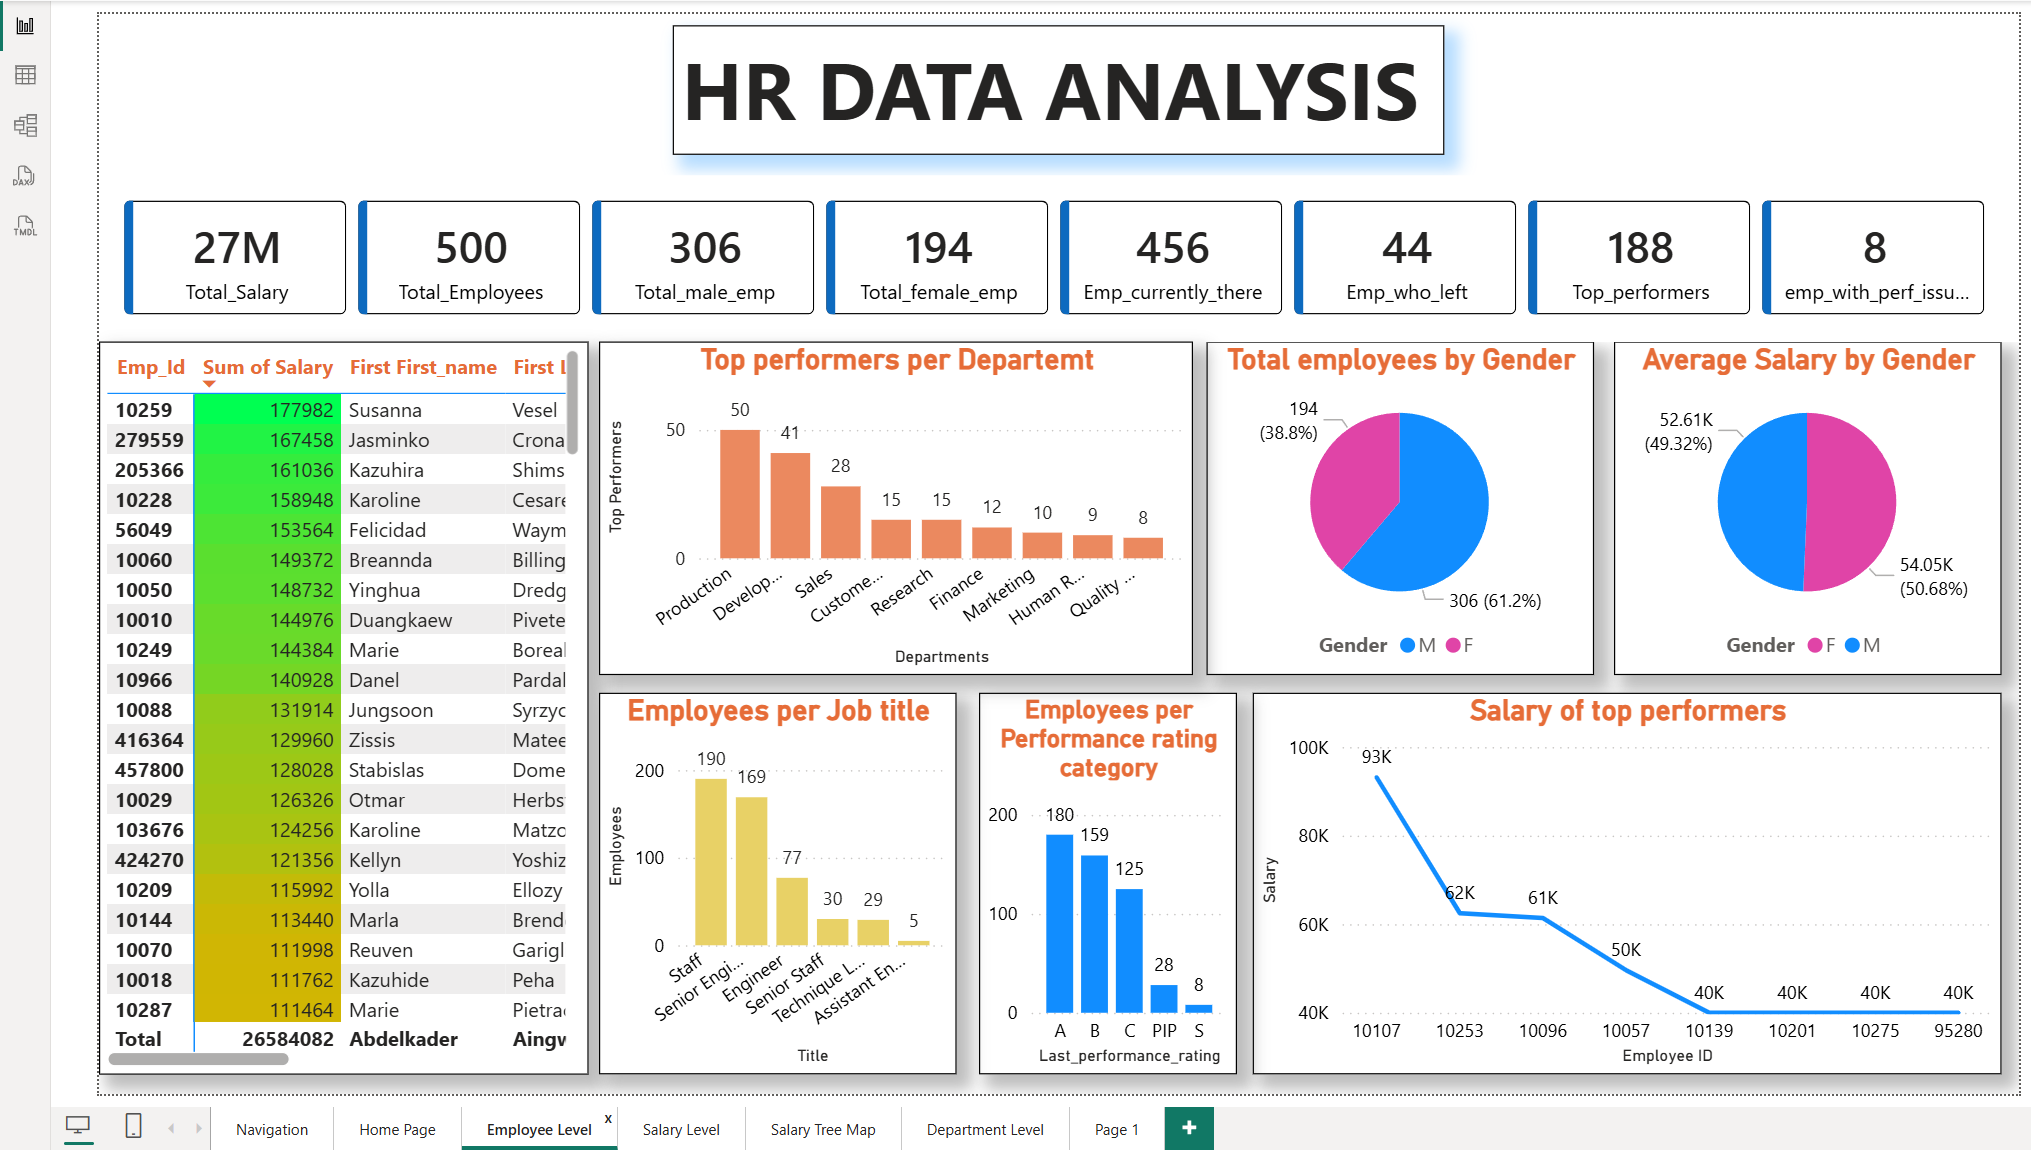

The dashboard page shown, as its layout file describes it:
{"tool":"powerbi","page":{"name":"Employee Level","canvas":[1280,720],"ordinal":2},"visuals":[{"type":"textbox","box":[382.7,7.3,514.5,86.4],"z":0},{"type":"pieChart","title":"Total employees by Gender","fields":{"Y":["CountNonNull(Emp_Info.Emp_Id)"],"Category":["Emp_Info.Gender"]},"box":[738.2,218.2,258.2,222.7],"z":1000},{"type":"pieChart","title":"Average Salary by Gender","fields":{"Category":["Emp_Info.Gender"],"Y":["Emp_Info.Average_Salary"]},"box":[1010,218.2,258.2,222.7],"z":2000},{"type":"lineChart","title":"Salary of top performers","fields":{"Category":["Emp_Info.Emp_Id"],"Y":["Sum(Emp_Info.Salary)"]},"box":[769.1,452.7,499.1,254.5],"z":3000},{"type":"cardVisual","fields":{"Data":["Emp_Info.Total_Salary","Emp_Info.Total_Employees","Emp_Info.Total_male_emp","Emp_Info.Total_female_emp","Emp_Info.Emp_currently_there","Emp_Info.Emp_who_left","Emp_Info.Good_performers","Emp_Info.emp_with_perf_issues"]},"box":[0,107.3,1280,110.9],"z":4000},{"type":"pivotTable","fields":{"Rows":["Emp_Info.Emp_Id"],"Values":["Sum(Emp_Info.Salary)","Min(Emp_Info.First_name)","Min(Emp_Info.Last_name)","Min(Emp_Info.Last_performance_rating)","Sum(Emp_Info.Projects)"]},"box":[0,218.2,326.4,489.1],"z":5000},{"type":"clusteredColumnChart","title":"Employees per Performance rating category","fields":{"Category":["Emp_Info.Last_performance_rating"],"Y":["CountNonNull(Emp_Info.Emp_Id)"]},"box":[586.4,452.7,171.8,254.5],"z":6000},{"type":"clusteredColumnChart","title":"Top performers per Departemt","fields":{"Category":["Dept_Info.Dep_Name"],"Y":["Emp_Info.Good_performers"]},"box":[333.6,218.2,396.4,222.7],"z":7000},{"type":"clusteredColumnChart","title":"Employees per Job title","fields":{"Category":["Emp_Info.Title"],"Y":["CountNonNull(Emp_Info.Emp_Id)"]},"box":[333.6,452.7,238.2,254.5],"z":8000}]}

Visuals, with their boxes on the page's 1280x720 design canvas (x1, y1, x2, y2). These are canvas units, not pixel positions in the 2031x1150 screenshot, which may show the page scaled, cropped or inside an application window:
textbox: <region>383, 7, 897, 94</region>
"Total employees by Gender" pieChart: <region>738, 218, 996, 441</region>
"Average Salary by Gender" pieChart: <region>1010, 218, 1268, 441</region>
"Salary of top performers" lineChart: <region>769, 453, 1268, 707</region>
cardVisual - Emp_Info.Total_Salary x Emp_Info.Total_Employees: <region>0, 107, 1280, 218</region>
pivotTable - Emp_Info.Emp_Id x Sum(Emp_Info.Salary): <region>0, 218, 326, 707</region>
"Employees per Performance rating category" clusteredColumnChart: <region>586, 453, 758, 707</region>
"Top performers per Departemt" clusteredColumnChart: <region>334, 218, 730, 441</region>
"Employees per Job title" clusteredColumnChart: <region>334, 453, 572, 707</region>
